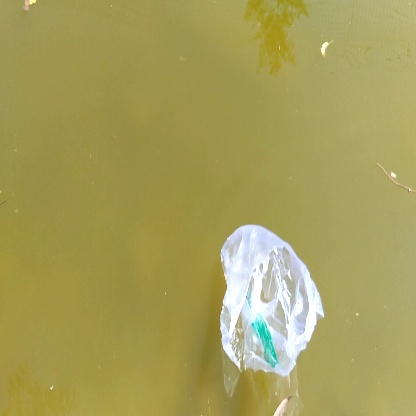plastic-bag: (218, 223, 328, 376)
